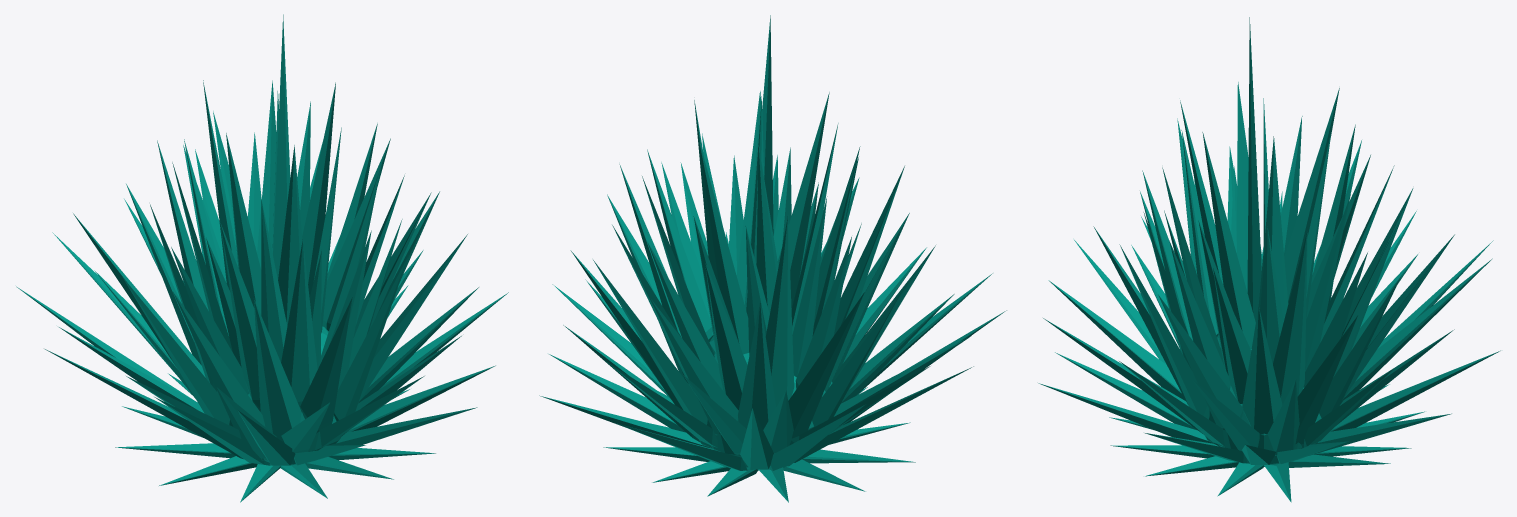
Rendered from Blue Agave.glb.
3 views of the same model, side by side, from view 1: azimuth 30°, elevation 25°; view 2: azimuth 150°, elevation 25°; view 3: azimuth 270°, elevation 25° (orthographic). The views are drawn at different scales.
Visible parts, largest first — view 1: group1808682730, group321949543, group1232985006, group334840783, group1937561181, group1732842745, group1236448184, group818512132, group856046640, group76448869, group697500498, group1370576841 (+48 smaller); view 2: group576003678, group415249786, group1368278764, group1895805210, group1317476708, group697500498, group2141837401, group395278043, group79880729, group1937783385, group1699110549, group818512132 (+44 smaller); view 3: group1863386935, group603349665, group496826606, group1236448184, group79880729, group1940115487, group1937561181, group678734681, group1144192691, group1457567229, group834218464, group334840783 (+46 smaller).
Boxes of the visible parts, bbox=[...] form: group1808682730: bbox=[281, 239, 317, 412]; group321949543: bbox=[253, 298, 301, 442]; group1232985006: bbox=[220, 222, 260, 411]; group334840783: bbox=[302, 82, 335, 297]; group1937561181: bbox=[334, 255, 408, 421]; group1732842745: bbox=[300, 297, 352, 433]; group1236448184: bbox=[273, 14, 290, 279]; group818512132: bbox=[122, 276, 229, 424]; group856046640: bbox=[226, 133, 261, 314]; group76448869: bbox=[173, 292, 264, 460]; group697500498: bbox=[278, 145, 302, 325]; group1370576841: bbox=[261, 199, 287, 361]; group576003678: bbox=[765, 215, 794, 406]; group415249786: bbox=[698, 139, 748, 354]; group1368278764: bbox=[788, 292, 864, 445]; group1895805210: bbox=[738, 301, 776, 429]; group1317476708: bbox=[705, 262, 747, 409]; group697500498: bbox=[777, 92, 829, 308]; group2141837401: bbox=[593, 260, 714, 449]; group395278043: bbox=[792, 196, 827, 377]; group79880729: bbox=[756, 145, 778, 314]; group1937783385: bbox=[650, 298, 738, 435]; group1699110549: bbox=[647, 241, 723, 390]; group818512132: bbox=[812, 293, 900, 426]; group1863386935: bbox=[1273, 230, 1307, 404]; group603349665: bbox=[1242, 306, 1282, 434]; group496826606: bbox=[1202, 132, 1255, 348]; group1236448184: bbox=[1247, 17, 1261, 322]; group79880729: bbox=[1284, 88, 1339, 303]; group1940115487: bbox=[1213, 268, 1251, 403]; group1937561181: bbox=[1119, 244, 1209, 419]; group678734681: bbox=[1158, 294, 1243, 428]; group1144192691: bbox=[1295, 315, 1357, 448]; group1457567229: bbox=[1048, 280, 1185, 400]; group834218464: bbox=[1341, 258, 1492, 403]; group334840783: bbox=[1258, 136, 1288, 320].
Size of the model in its own units: 1.58 by 1.53 by 1.45.
